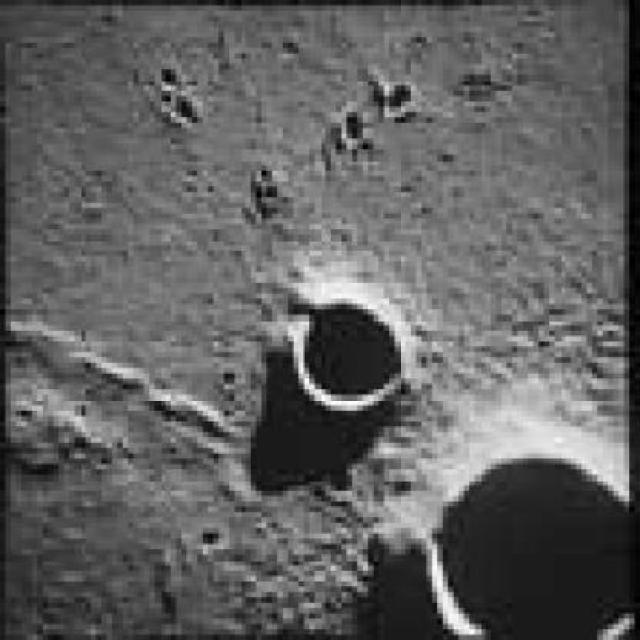crater: (432, 454, 638, 638), (291, 302, 407, 402)
